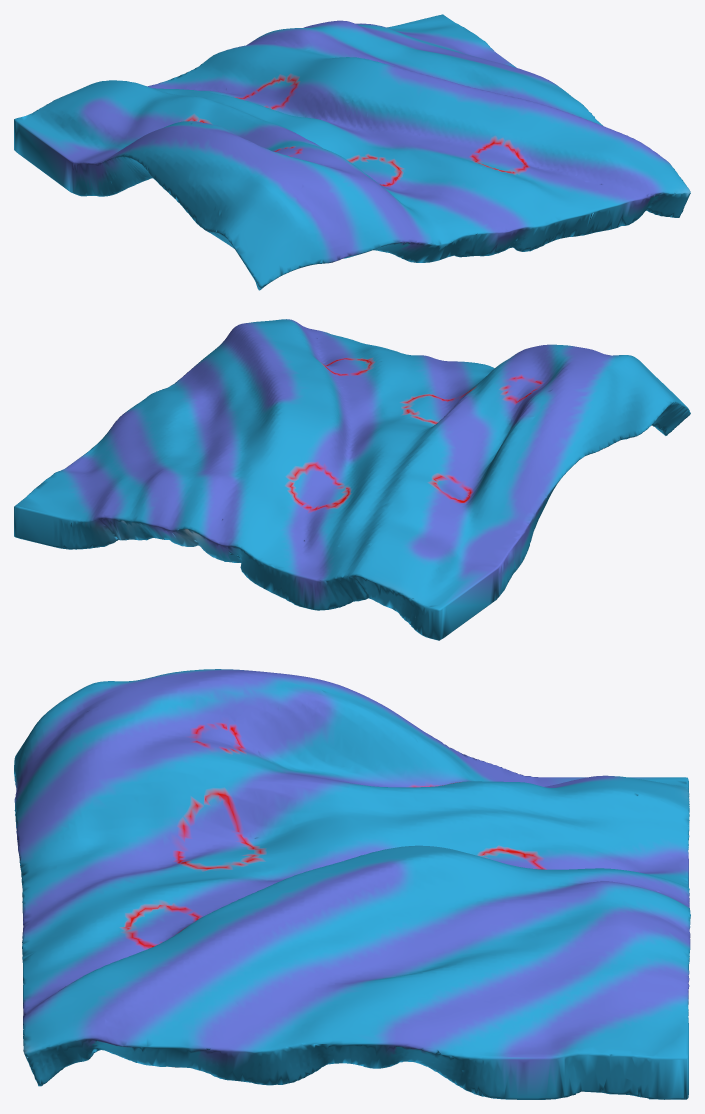
The model's file is beach.glb.
3 views of the same model, one above another, from view 1: azimuth 30°, elevation 25°; view 2: azimuth 150°, elevation 25°; view 3: azimuth 270°, elevation 25° (orthographic). The views are drawn at different scales.
Visible parts, largest first — view 1: Grid; view 2: Grid; view 3: Grid.
Part boxes in pixels (x1,y1,x2,y2): Grid: [14, 14, 690, 290]; Grid: [14, 319, 690, 640]; Grid: [14, 669, 690, 1099].
Bounding box in the file's own units: 40.88 × 11.42 × 40.46.
